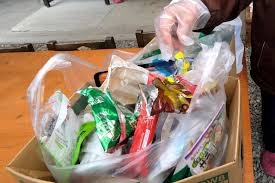plastic: (39, 89, 95, 182), (76, 85, 144, 153), (147, 73, 218, 128), (127, 109, 156, 177)
